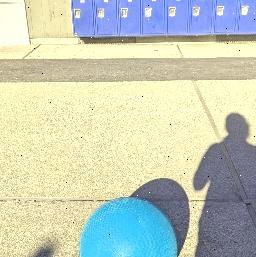algae: (76, 192, 182, 257)
